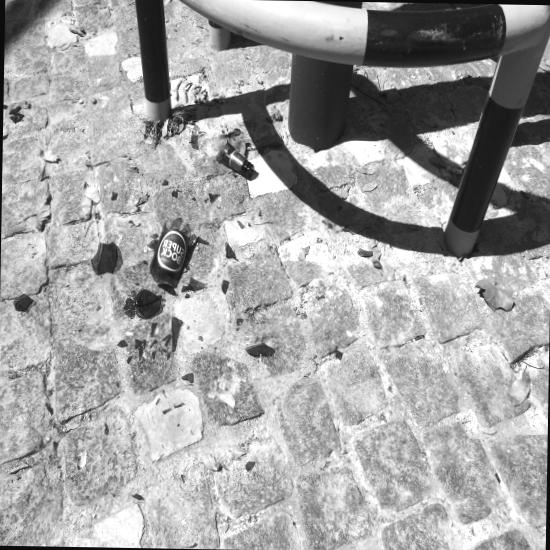Broken glass: (134, 288, 165, 318), (91, 241, 116, 276), (171, 315, 183, 352), (244, 342, 275, 356), (12, 293, 33, 311), (122, 291, 136, 317), (181, 277, 206, 291), (190, 123, 199, 149), (226, 240, 236, 257), (357, 247, 373, 257), (8, 104, 21, 115), (221, 279, 229, 295), (147, 239, 157, 251), (181, 373, 193, 383), (162, 333, 171, 346), (334, 349, 343, 361), (134, 339, 143, 350), (245, 461, 255, 470), (197, 236, 208, 244), (138, 345, 143, 361), (45, 402, 53, 412), (236, 220, 244, 229), (150, 323, 156, 335), (9, 115, 17, 124), (186, 542, 198, 548), (208, 194, 218, 201), (103, 421, 108, 434), (174, 402, 184, 408), (131, 494, 143, 499), (125, 356, 132, 364), (151, 350, 158, 358), (150, 233, 158, 240), (118, 340, 127, 346), (18, 114, 24, 123), (111, 192, 118, 199), (236, 318, 243, 325), (162, 408, 170, 414), (149, 340, 156, 346), (52, 441, 56, 451), (162, 388, 166, 398), (162, 179, 168, 185), (172, 191, 177, 198), (158, 348, 166, 352), (198, 334, 202, 341), (143, 339, 146, 348), (3, 104, 8, 109), (167, 352, 170, 360), (156, 397, 160, 403), (185, 293, 190, 297), (143, 260, 147, 265), (176, 189, 181, 192)
Glass bottle: (149, 217, 191, 286), (217, 139, 253, 178)
